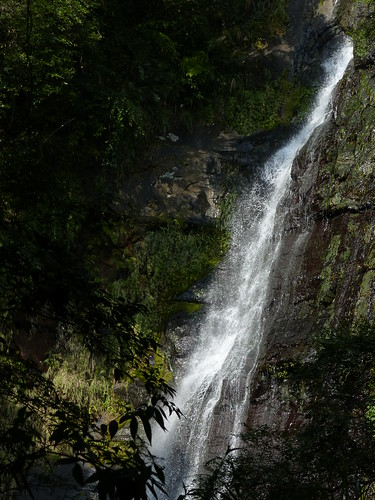wufengciWaterfall: (140, 29, 366, 497)
